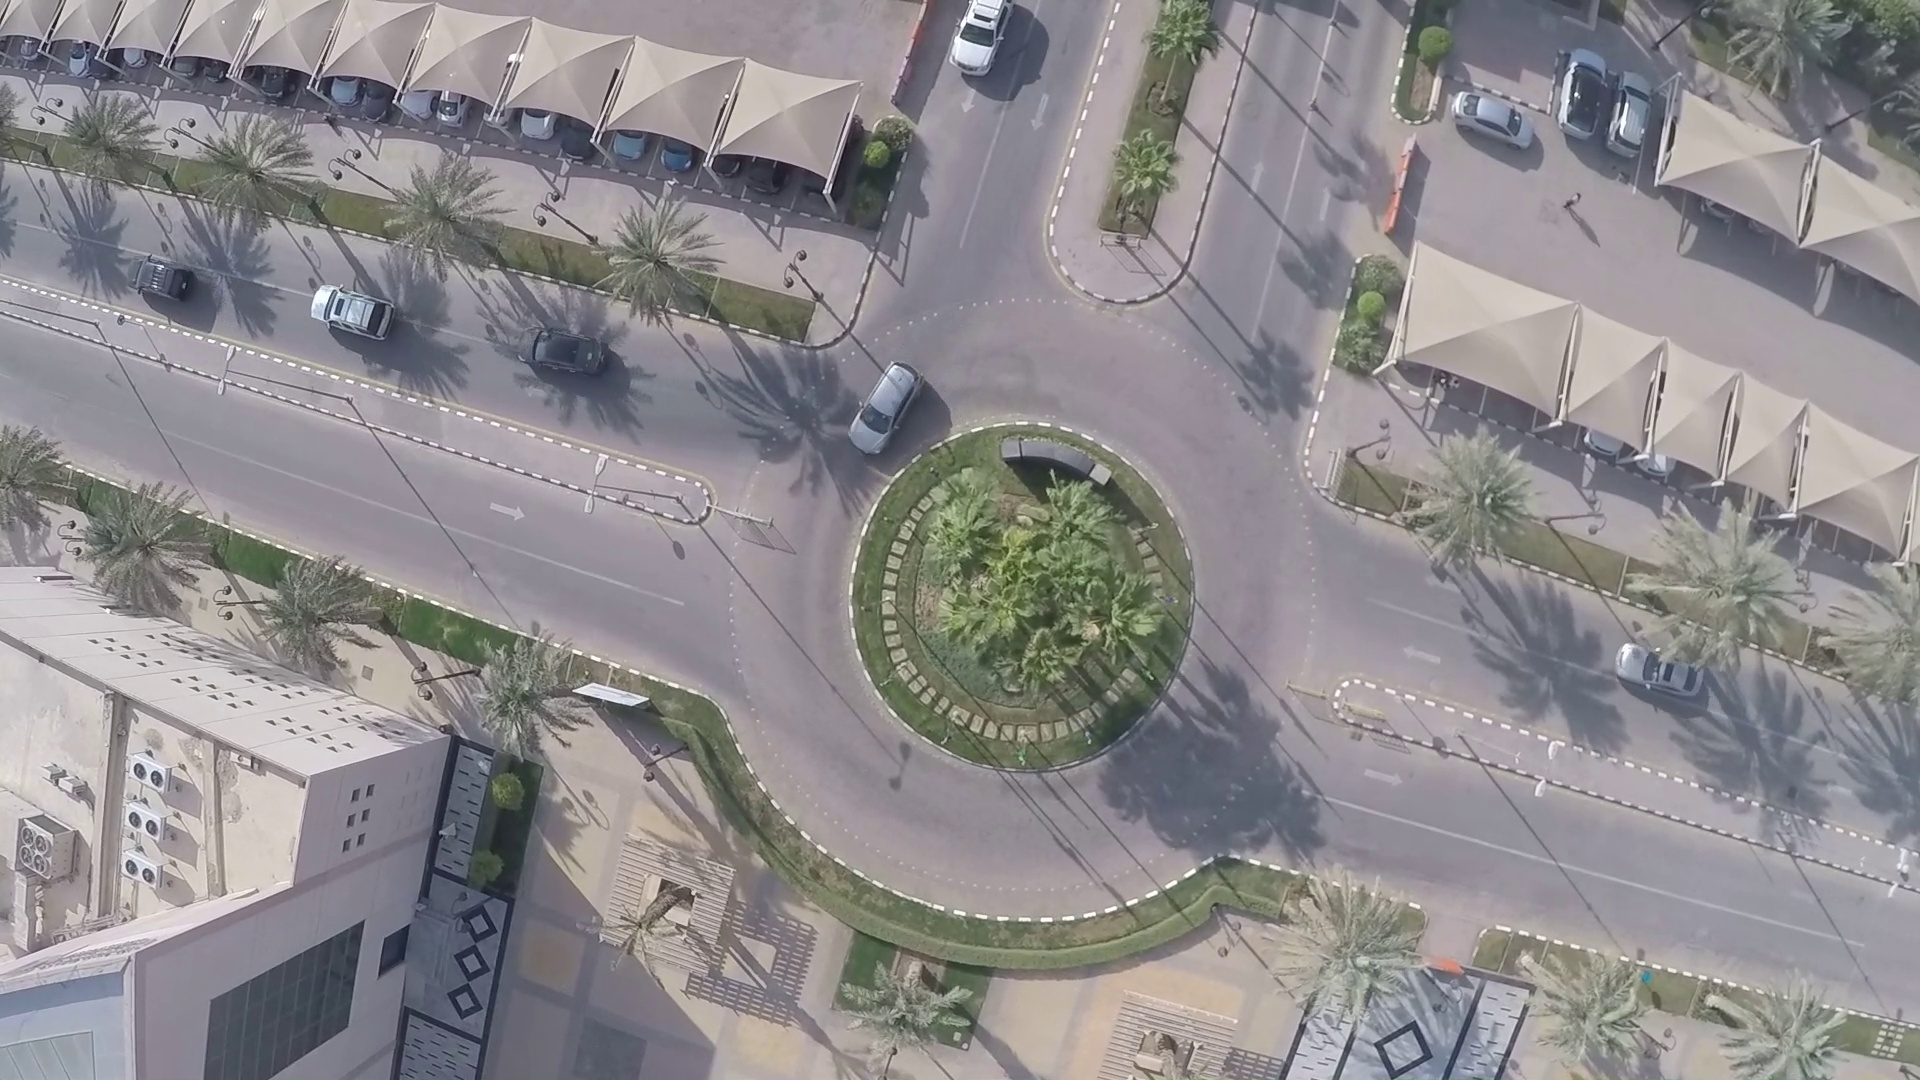car: (952, 1, 1030, 103), (847, 355, 915, 460), (290, 276, 392, 343), (1611, 638, 1712, 704), (1451, 80, 1528, 162), (512, 314, 609, 376), (104, 249, 198, 307)
